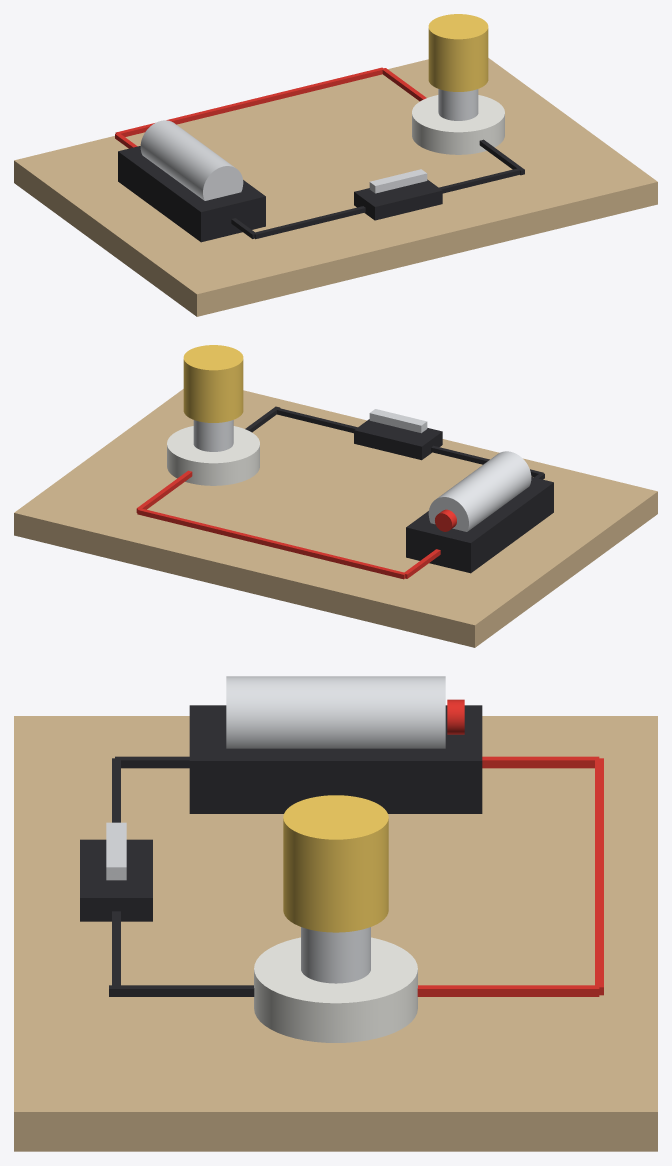
File: elec-ohm__model3d__simple-circuit-educational.glb
3 views of the same model, one above another, from view 1: azimuth 30°, elevation 25°; view 2: azimuth 150°, elevation 25°; view 3: azimuth 270°, elevation 25° (orthographic). The views are drawn at different scales.
Parts seen in each view (by area): view 1: Lab base, Battery holder, Cell, Bulb envelope stylized, Lamp base, Switch base, Positive wire B, Bulb socket, Return wire C, Switch lever, Return wire B; view 2: Lab base, Battery holder, Bulb envelope stylized, Cell, Lamp base, Switch base, Positive wire B, Bulb socket, Switch lever, Return wire B, Return wire C, Positive wire C; view 3: Lab base, Battery holder, Cell, Bulb envelope stylized, Lamp base, Switch base, Bulb socket, Positive wire C, Positive wire B, Return wire A, Positive wire A, Switch lever (+1 smaller).
Boxes of the visible parts, x1,y1,x2,y2 form: Lab base: (14, 58, 657, 316); Battery holder: (118, 146, 265, 242); Cell: (140, 120, 243, 200); Bulb envelope stylized: (428, 14, 488, 91); Lamp base: (412, 95, 504, 154); Switch base: (354, 179, 442, 220); Positive wire B: (115, 67, 383, 136); Bulb socket: (438, 89, 478, 120); Return wire C: (253, 206, 365, 239); Switch lever: (369, 169, 427, 193); Return wire B: (439, 168, 522, 193); Lab base: (14, 389, 657, 647); Battery holder: (406, 477, 553, 573); Bulb envelope stylized: (183, 345, 243, 422); Cell: (428, 451, 531, 531); Lamp base: (167, 426, 259, 485); Switch base: (354, 419, 442, 460); Positive wire B: (137, 508, 405, 579); Bulb socket: (193, 420, 233, 451); Switch lever: (369, 409, 427, 433); Return wire B: (274, 408, 357, 433); Return wire C: (431, 445, 543, 477); Positive wire C: (136, 470, 192, 512); Lab base: (14, 716, 657, 1151); Battery holder: (189, 705, 482, 813); Cell: (226, 676, 445, 748); Bulb envelope stylized: (283, 795, 388, 932); Lamp base: (254, 937, 417, 1042); Switch base: (80, 839, 152, 921); Bulb socket: (301, 927, 370, 983); Positive wire C: (417, 985, 599, 996); Positive wire B: (595, 758, 603, 995); Return wire A: (109, 985, 254, 996); Positive wire A: (482, 756, 599, 768); Switch lever: (106, 822, 126, 880).
Size of the model in its own units: 0.32 by 0.091 by 0.22.
